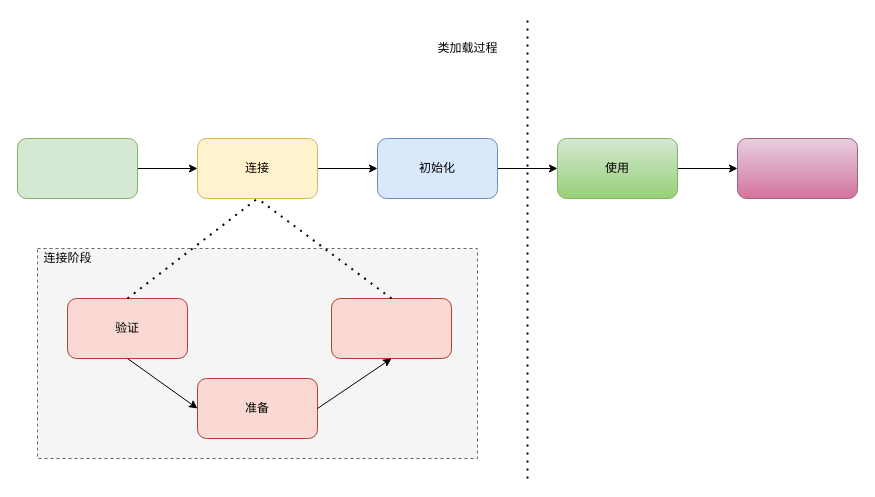
This 875x497 diagram has some shape labels left out. Each missing label, with the centre of its shape:
"加载" belongs at (x=77, y=168).
"卸载" belongs at (x=797, y=168).
"解析" belongs at (x=391, y=328).
